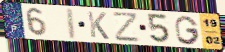5: (146, 13, 172, 45)
6: (25, 7, 49, 38)
G: (173, 15, 201, 46)
I: (67, 7, 78, 41)
K: (86, 10, 111, 41)
Z: (112, 12, 142, 43)
